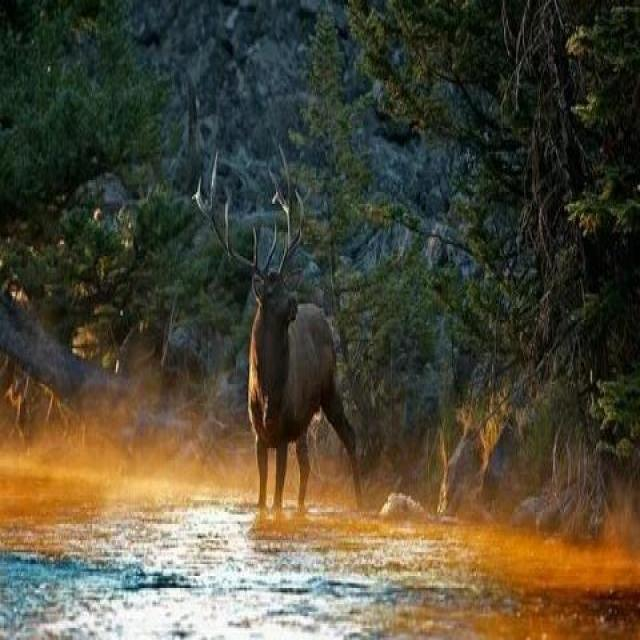deer: (195, 213, 368, 488)
